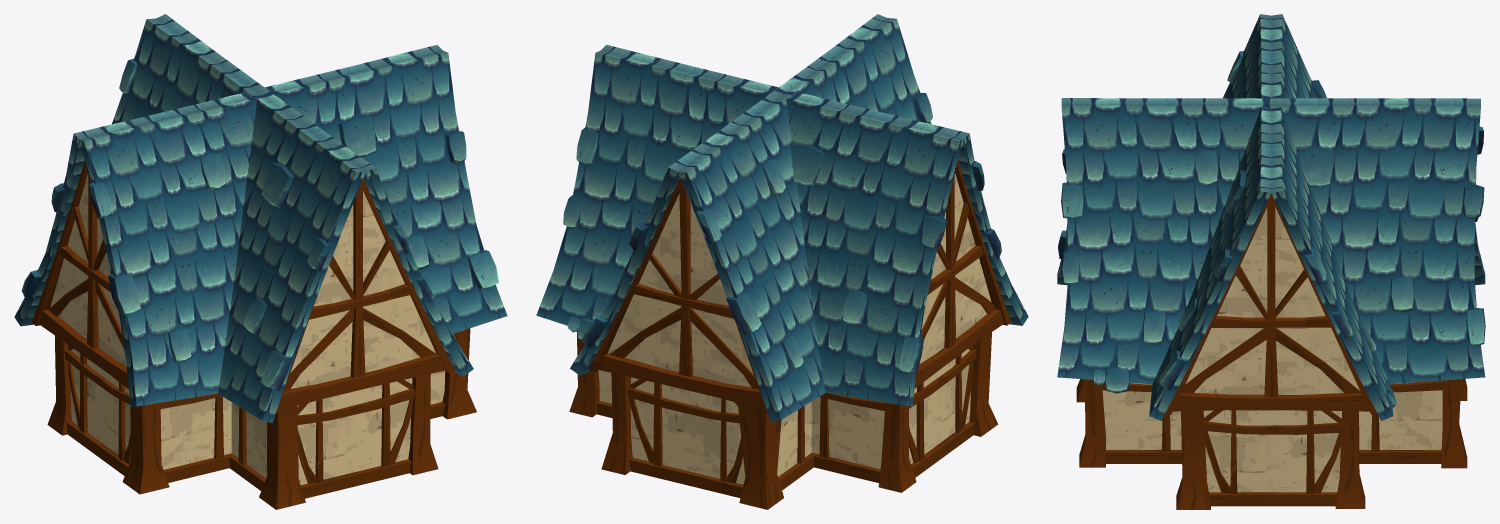
Rendered from maison-4.glb.
3 renders of one model, left to right at view 1: azimuth 30°, elevation 25°; view 2: azimuth 150°, elevation 25°; view 3: azimuth 270°, elevation 25°, orthographic.
Visible parts, largest first — view 1: SM_BLD_body_v07_02; view 2: SM_BLD_body_v07_02; view 3: SM_BLD_body_v07_02.
Part boxes in pixels (left/top/right/bottom): SM_BLD_body_v07_02: left=14, top=14, right=507, bottom=509; SM_BLD_body_v07_02: left=536, top=14, right=1028, bottom=509; SM_BLD_body_v07_02: left=1057, top=14, right=1485, bottom=509.
Size of the model in its own units: 12.88 by 10.78 by 12.88.
Materials: 3 (3 with a texture image).
